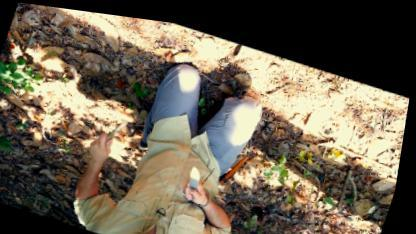knife: (184, 156, 219, 202)
